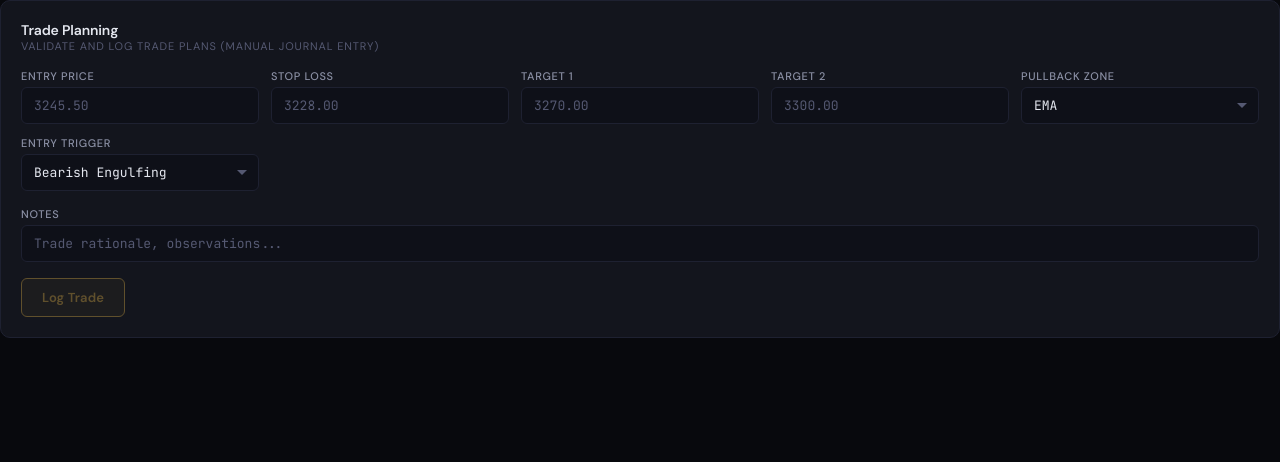
TradePanel › shows computed values when entry and stop are filled
Type "3250" into the number field with placeholder "3245.50" at (140, 106), box [21, 87, 259, 124]
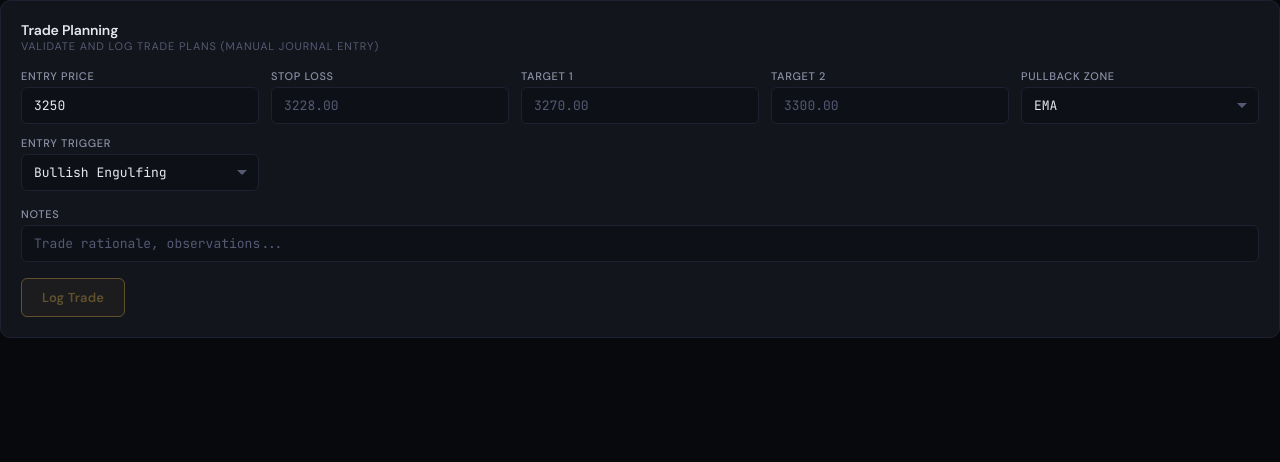
Type "3240" into the number field with placeholder "3228.00" at (390, 106), box [271, 87, 509, 124]
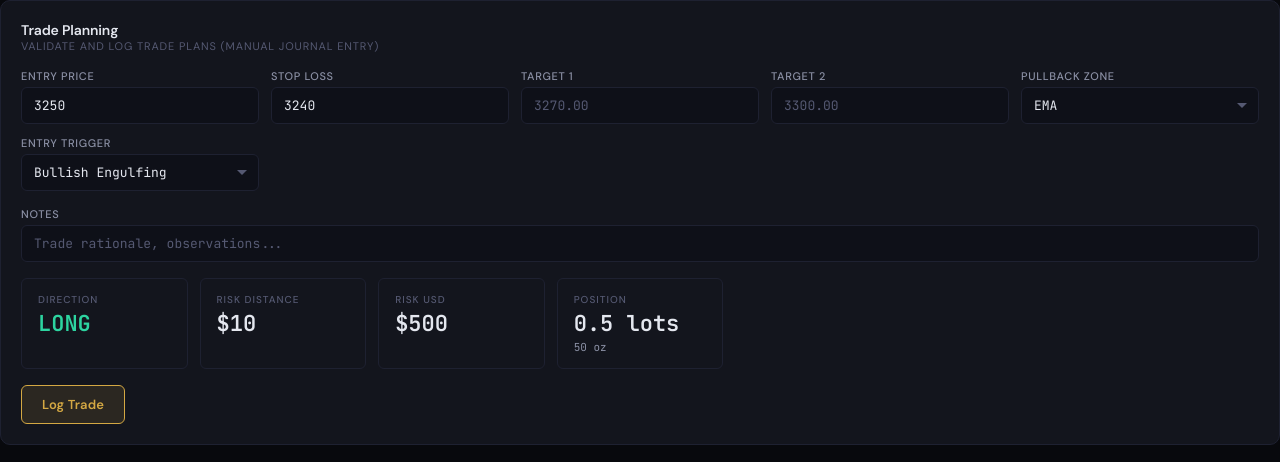
expect the text "LONG" is shown: met, box [38, 309, 91, 338]
expect the text "Risk Distance" is shown: met, box [217, 293, 300, 306]
expect the text "Risk USD" is shown: met, box [395, 293, 446, 306]
